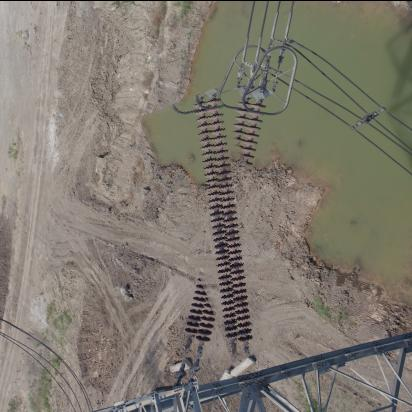insulator: (161, 91, 290, 360)
